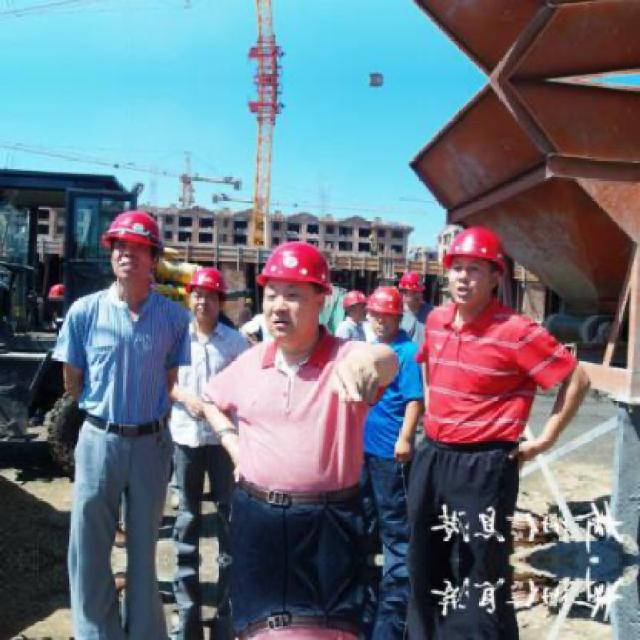con casco: (243, 232, 376, 331), (416, 220, 543, 305), (86, 198, 182, 294), (352, 266, 407, 341), (179, 264, 237, 311)
